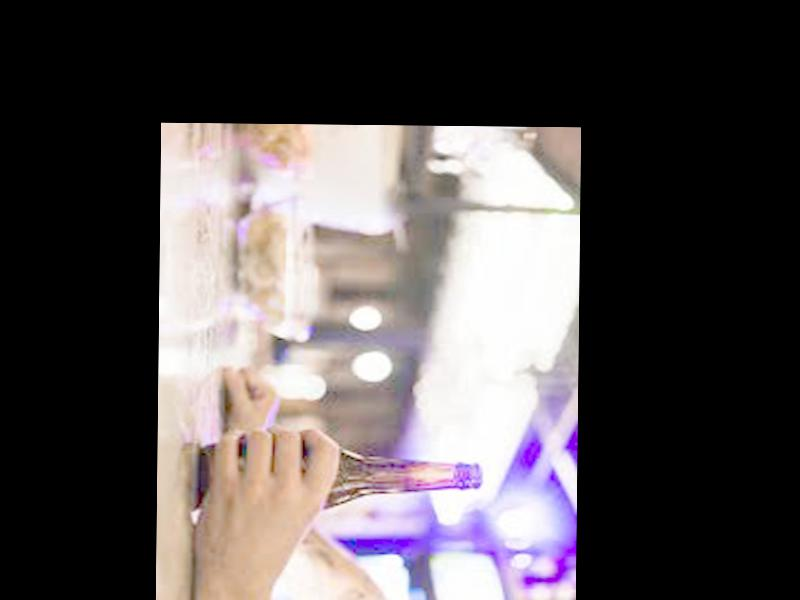Beer: (197, 444, 483, 510)
